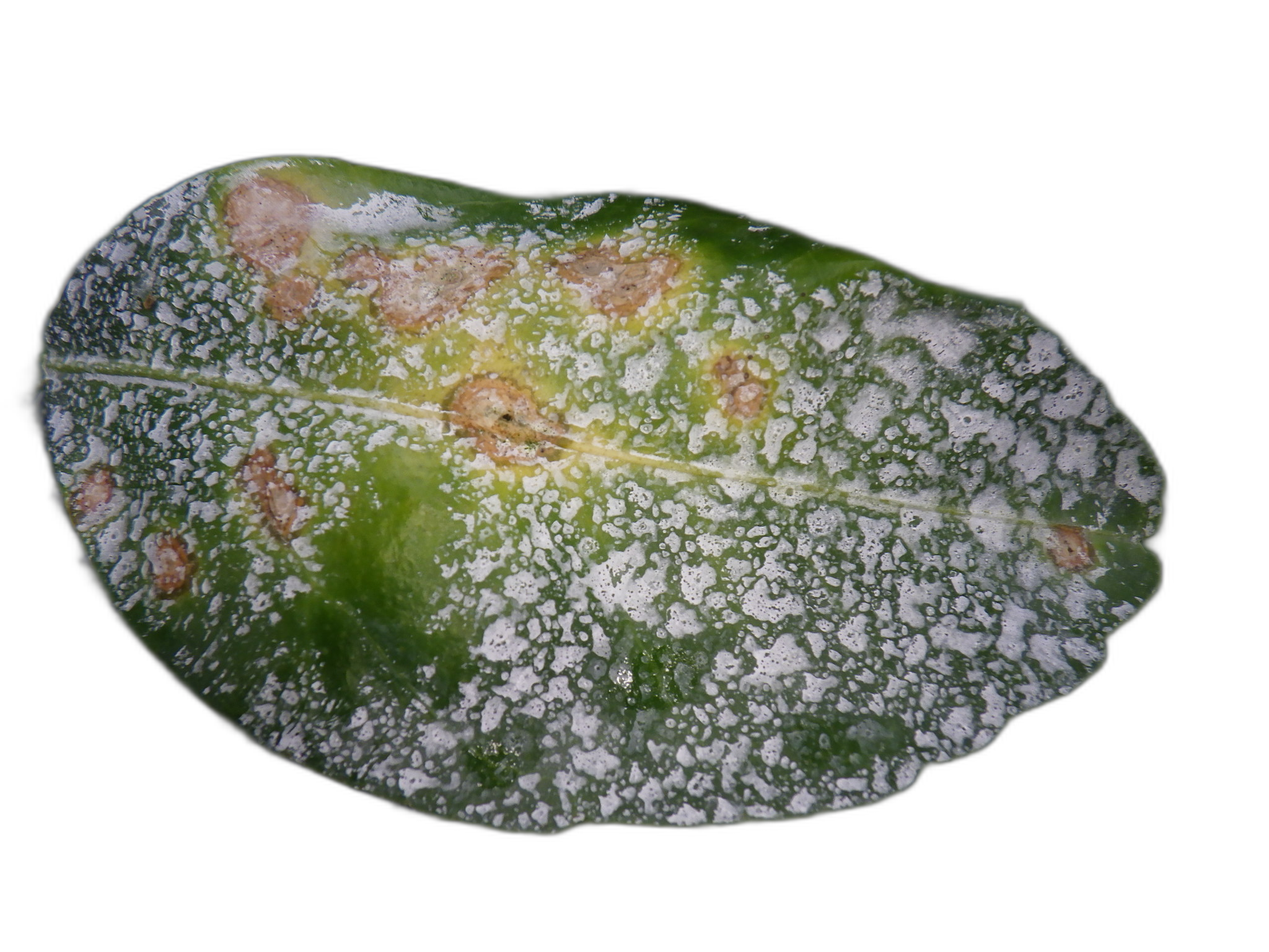Canker: (337, 245, 509, 332), (444, 373, 567, 465), (551, 247, 681, 317), (226, 178, 312, 271), (242, 449, 303, 533), (706, 351, 766, 420), (266, 271, 318, 320), (1048, 526, 1096, 571), (150, 540, 189, 592), (74, 470, 113, 515)
